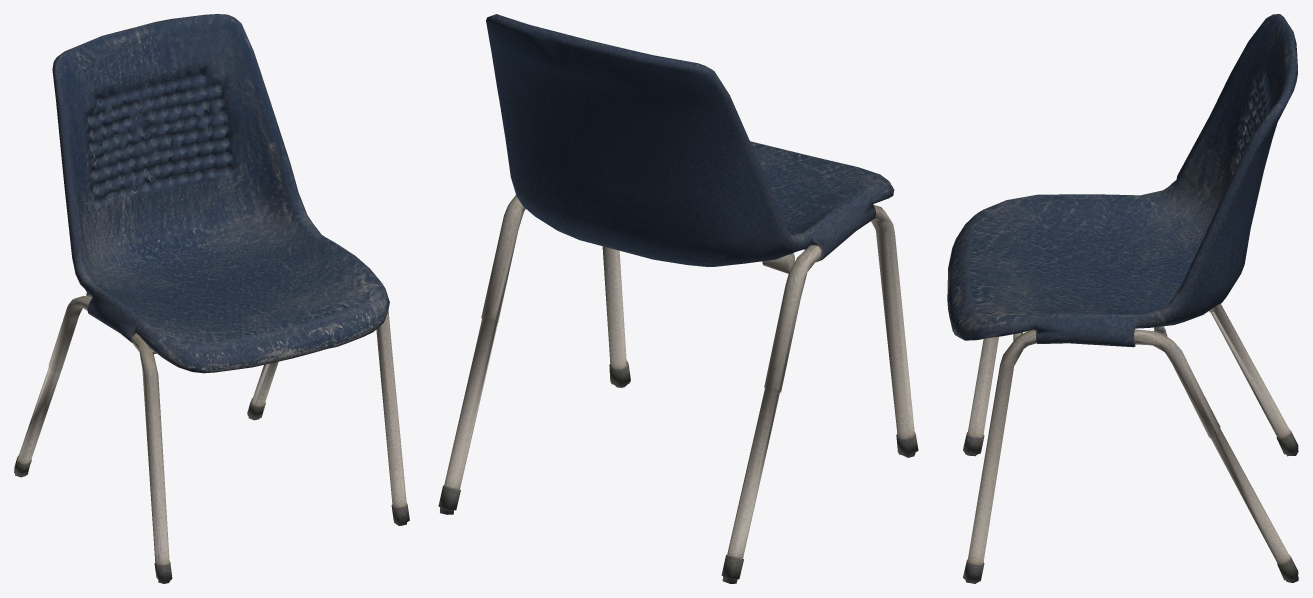
File: p7-plastic-stack-chair-t25.glb
3 views of the same model, side by side, from view 1: azimuth 30°, elevation 25°; view 2: azimuth 150°, elevation 25°; view 3: azimuth 270°, elevation 25° (orthographic). The views are drawn at different scales.
Visible parts, largest first — view 1: p7-plastic-stack-chair-t25; view 2: p7-plastic-stack-chair-t25; view 3: p7-plastic-stack-chair-t25.
Part boxes in pixels (left/top/right/bottom): p7-plastic-stack-chair-t25: left=14, top=14, right=409, bottom=583; p7-plastic-stack-chair-t25: left=438, top=14, right=918, bottom=583; p7-plastic-stack-chair-t25: left=947, top=14, right=1298, bottom=583.
Bounding box in the file's own units: 0.5 × 0.8 × 0.55.
1 material, 1 textured.
